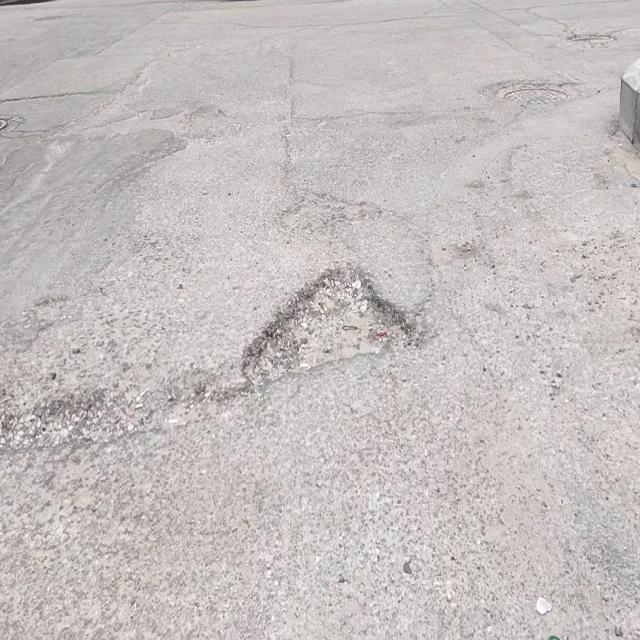Potholes: (241, 261, 422, 393)
